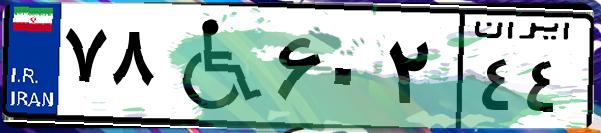0: (330, 28, 385, 110)
2: (385, 28, 445, 110)
4: (475, 38, 525, 113), (525, 38, 570, 115)
6: (270, 28, 330, 110)
7: (57, 26, 110, 100)
8: (110, 28, 158, 98)
ژ (معلولین و جانبازان): (158, 12, 270, 120)
